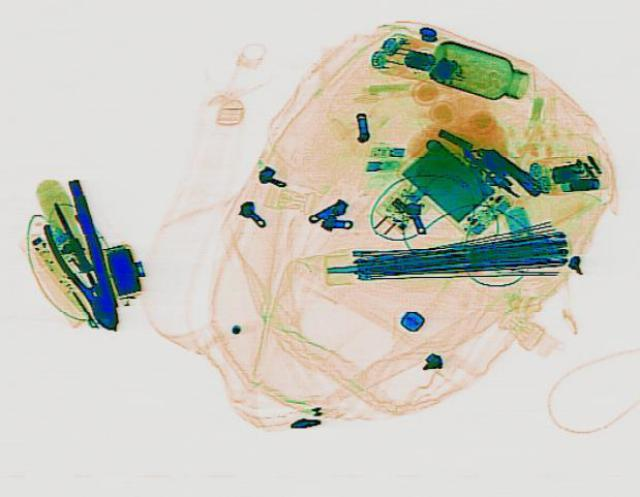Pliers: (39, 212, 138, 333)
